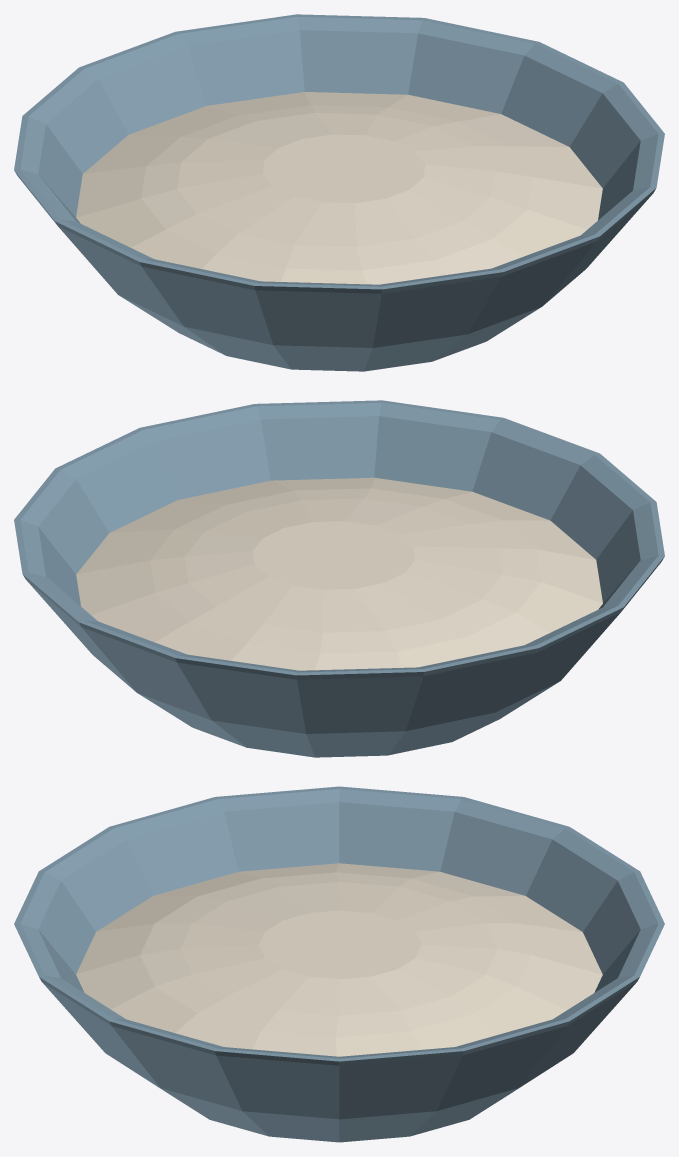
Rendered from Batter.fbx.
3 renders of one model, top to bottom at view 1: azimuth 30°, elevation 25°; view 2: azimuth 150°, elevation 25°; view 3: azimuth 270°, elevation 25°, orthographic.
Parts seen in each view (by area): view 1: Bowl.001, Flour.001; view 2: Bowl.001, Flour.001; view 3: Bowl.001, Flour.001.
Boxes of the visible parts, x1,y1,x2,y2 form: Bowl.001: [14, 14, 664, 371]; Flour.001: [76, 92, 602, 284]; Bowl.001: [14, 400, 664, 757]; Flour.001: [76, 477, 602, 670]; Bowl.001: [14, 786, 664, 1142]; Flour.001: [76, 863, 602, 1056].
Size of the model in its own units: 43.03 by 10.28 by 43.03.
